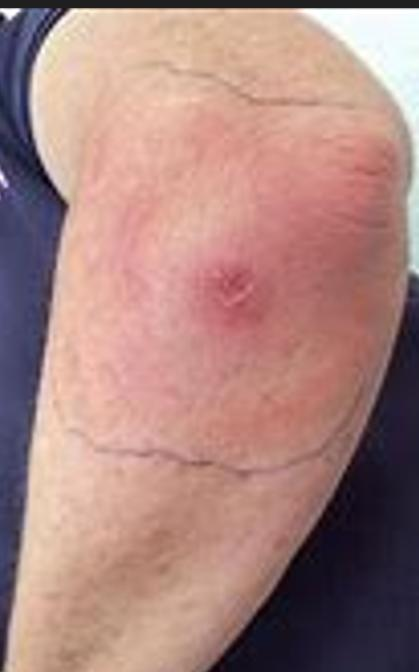Horse-Fly: (186, 241, 286, 354)
